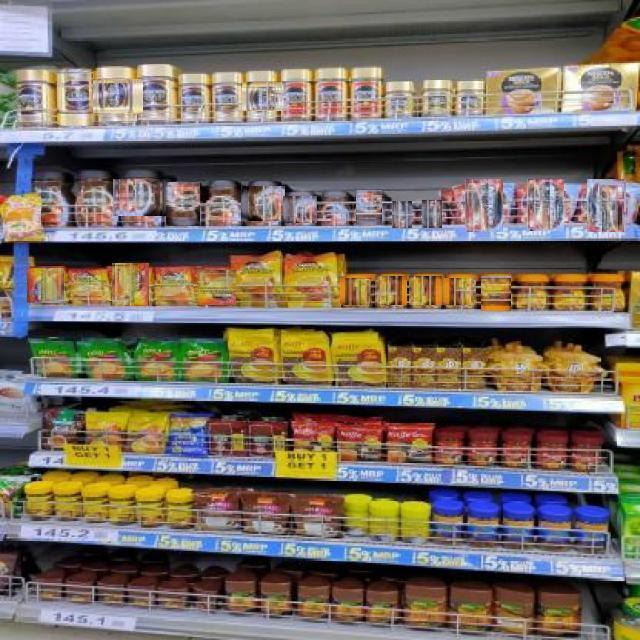Coffee: (284, 258, 336, 307), (73, 170, 116, 226), (236, 256, 281, 307), (56, 68, 93, 126), (113, 180, 171, 216), (464, 179, 503, 232), (588, 178, 626, 232), (526, 179, 564, 231), (85, 79, 143, 113), (13, 71, 47, 129), (138, 65, 170, 123), (111, 264, 149, 306), (241, 185, 285, 221), (165, 181, 200, 226), (213, 73, 242, 123), (180, 73, 209, 122), (206, 181, 238, 225), (155, 268, 193, 305), (197, 269, 236, 305), (69, 270, 109, 305), (238, 82, 286, 111), (27, 268, 64, 303), (480, 275, 511, 311), (553, 275, 584, 310), (594, 275, 623, 311), (319, 192, 349, 226), (518, 275, 546, 311), (283, 195, 317, 223), (408, 277, 442, 305), (424, 80, 451, 115), (385, 82, 412, 117), (355, 190, 382, 225), (457, 81, 483, 116), (375, 277, 407, 305), (443, 278, 476, 305), (341, 277, 371, 305), (391, 201, 412, 228), (422, 200, 442, 228)
